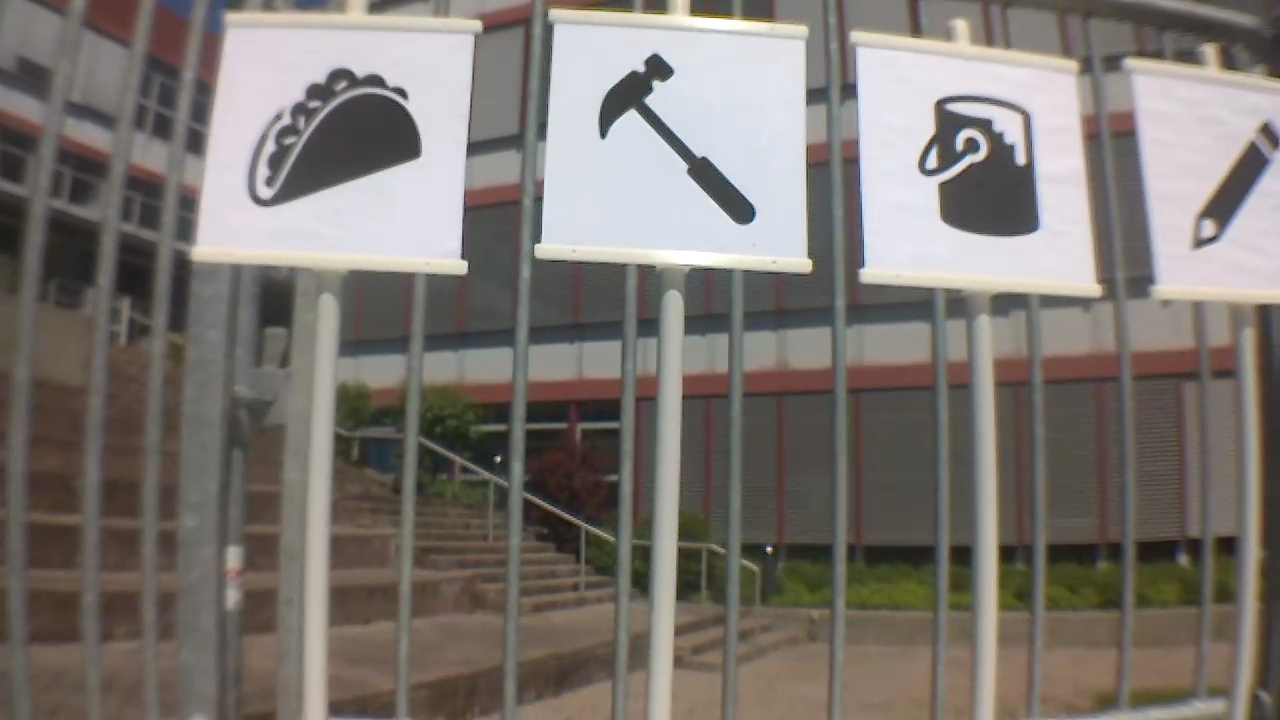bucket: (913, 91, 1043, 242)
hammer: (589, 52, 767, 225)
pencil: (1194, 115, 1280, 255)
taco: (237, 72, 418, 211)
